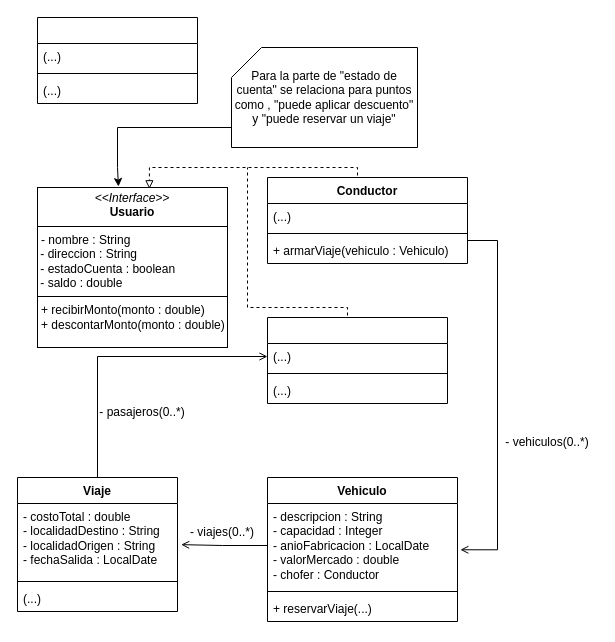
Image size: 615x642. Some labels were removed from this diagram. The shapes that lost their labels are listed below. From the top down, each one's box as (x1, y1, x2, y2) in pixels, then its label:
(36, 16, 198, 104): Aplicacion
(266, 316, 448, 404): Pasajero
